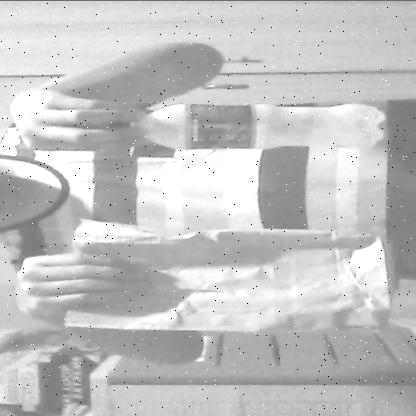Plastic Bottle: (92, 95, 395, 155)
